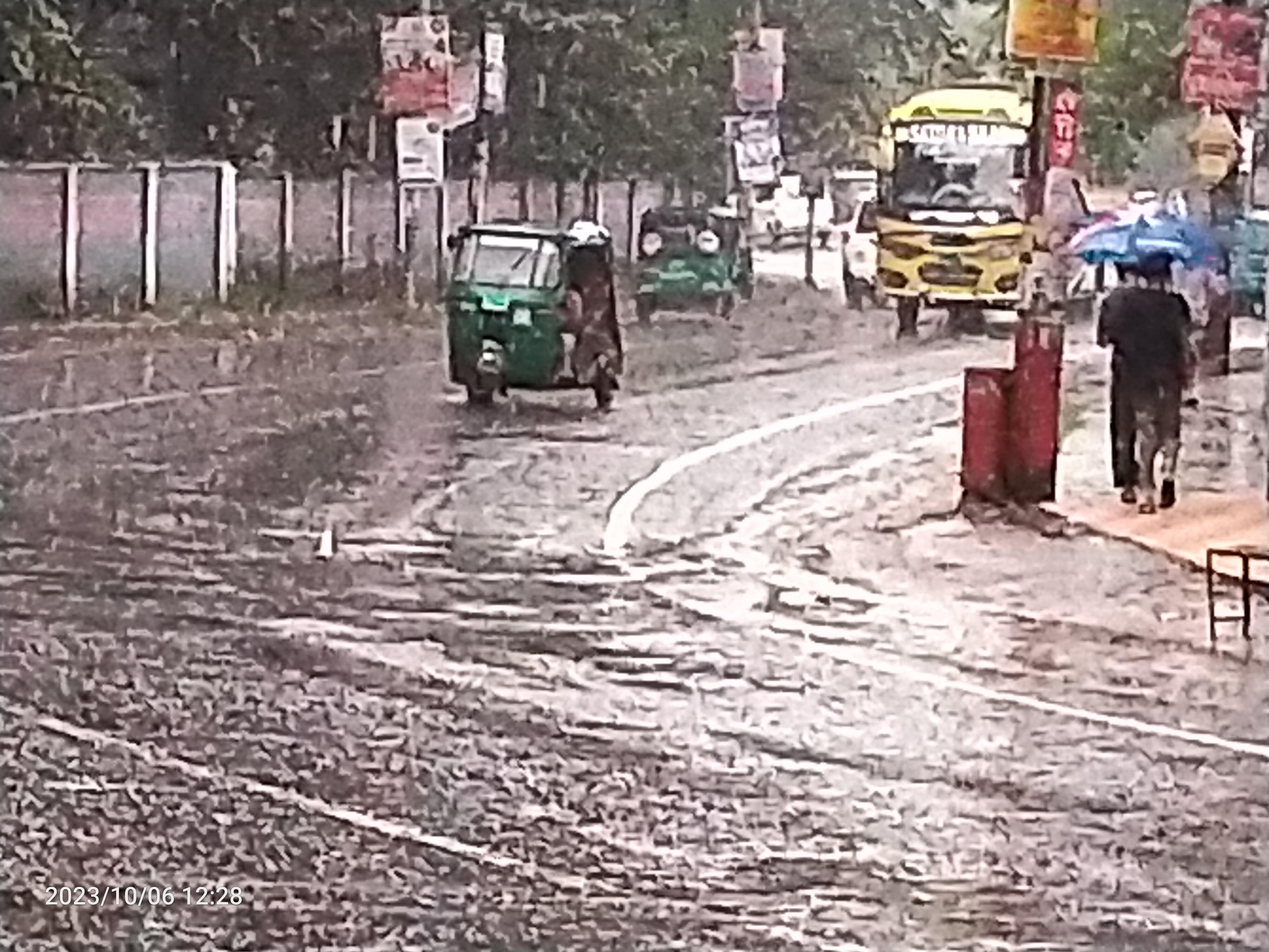Bus: (866, 74, 1027, 346)
